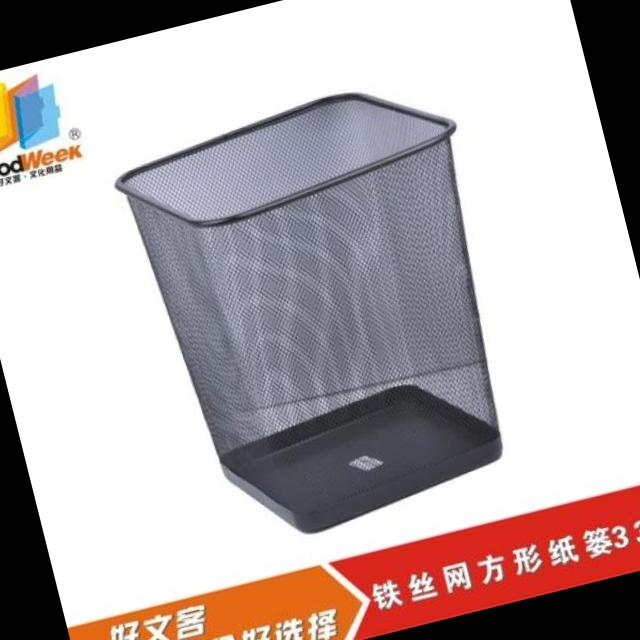dustbin: (100, 59, 554, 560)
